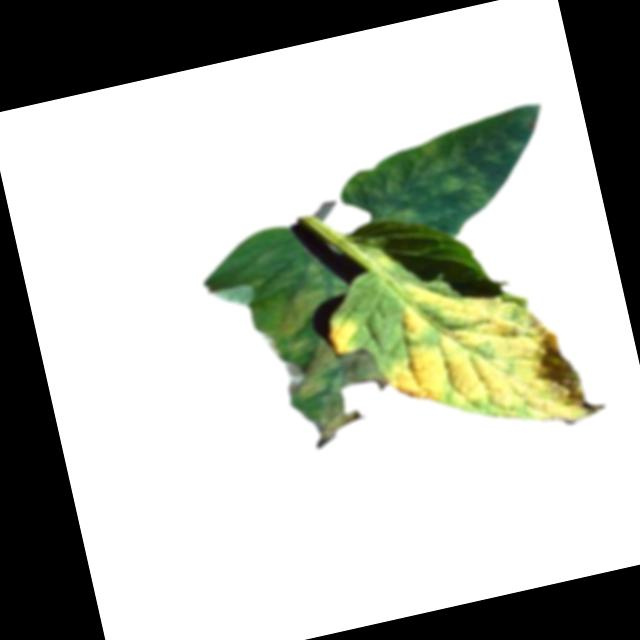Leaf_Mold: (371, 249, 591, 462), (246, 249, 400, 456), (346, 100, 560, 239)
